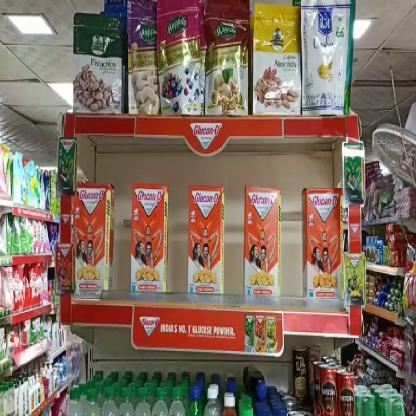Glucon D Tangy orange 1-KG: (303, 192, 342, 300), (188, 186, 223, 293), (75, 184, 106, 289)
